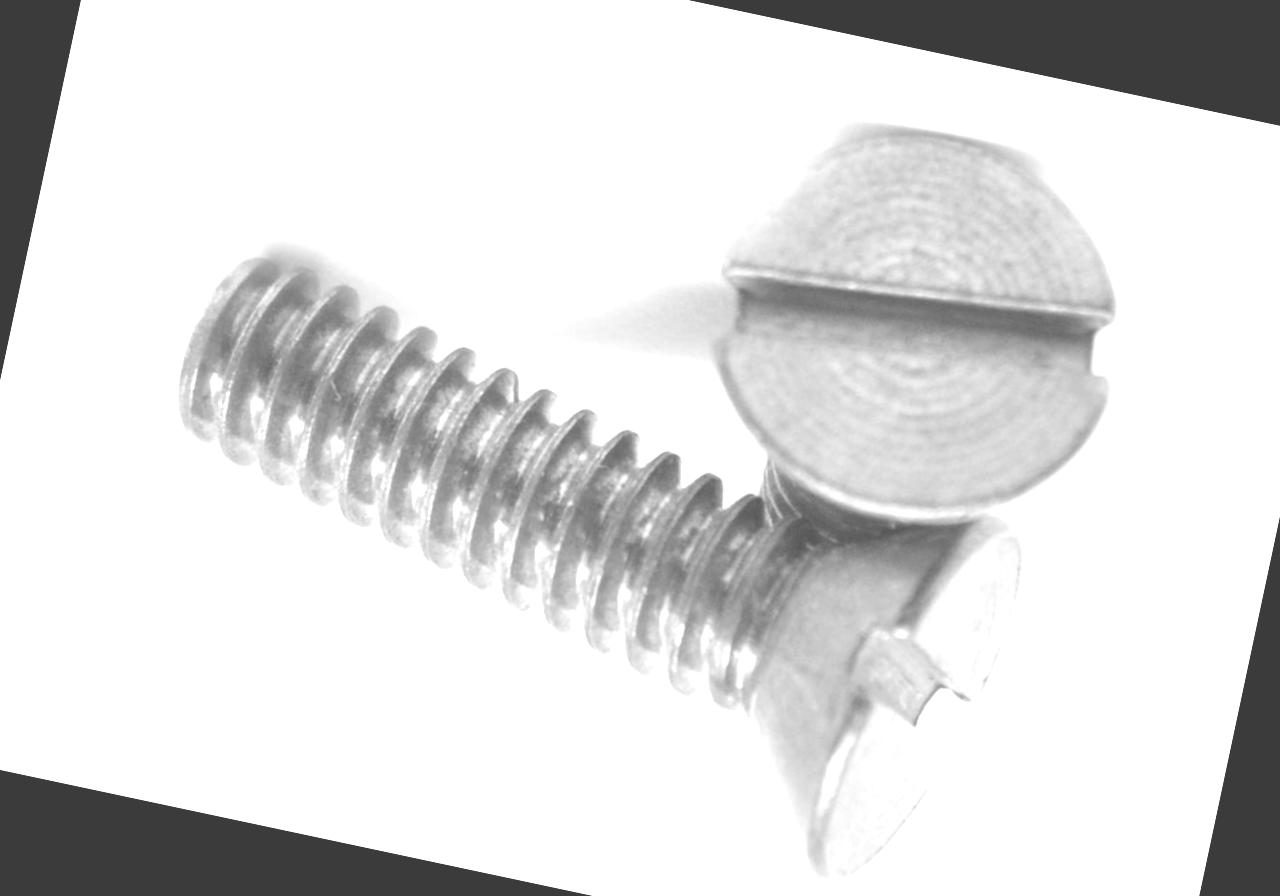slotted: (676, 95, 1150, 563)
